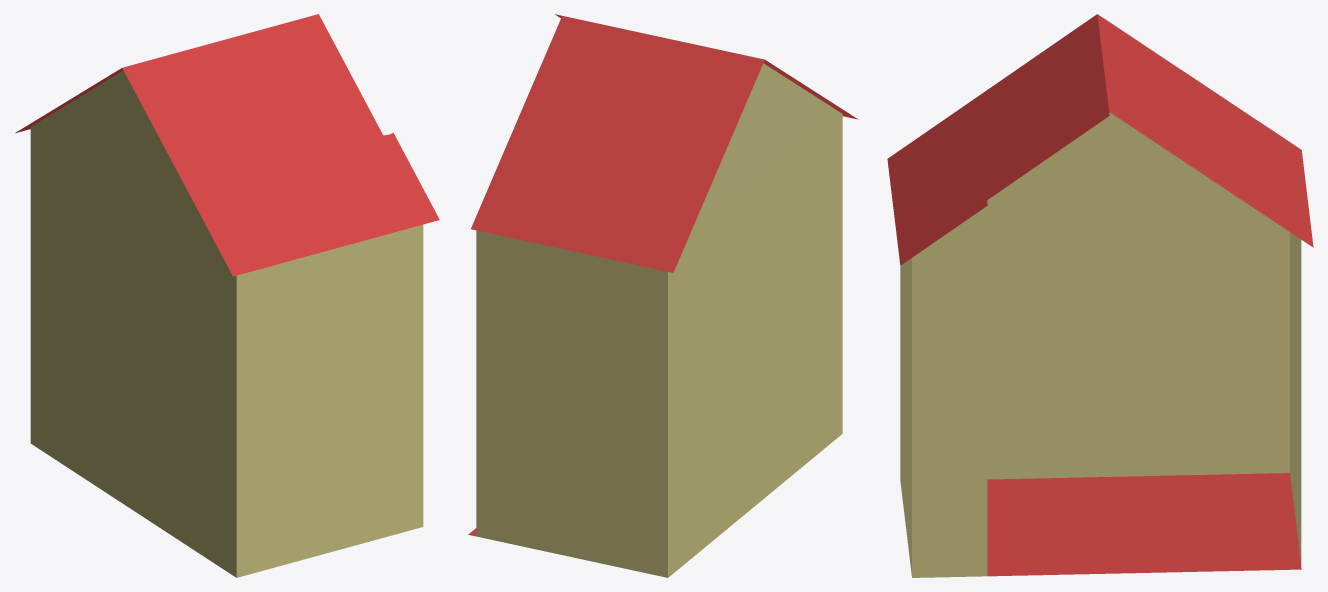
The picture shows the model from 3 angles, left to right: view 1: azimuth 30°, elevation 25°; view 2: azimuth 150°, elevation 25°; view 3: azimuth 270°, elevation 25°; orthographic projection. The views are drawn at different scales.
Size of the model in its own units: 5.53 by 8.58 by 10.17.
